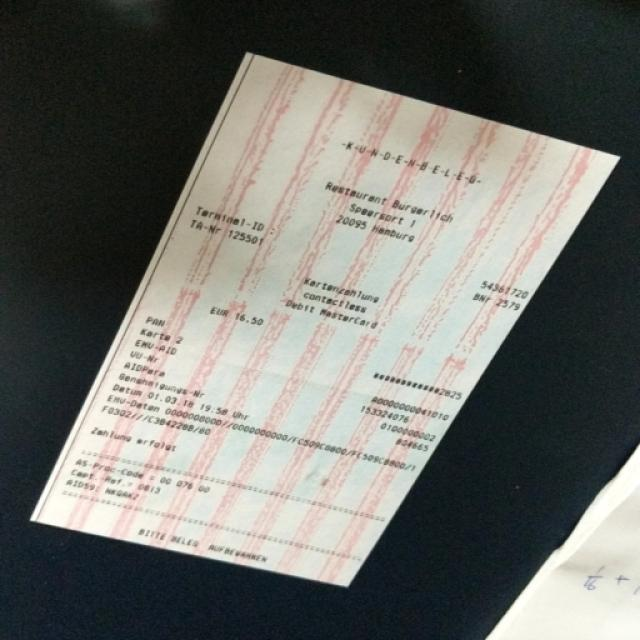document: (32, 54, 618, 585)
